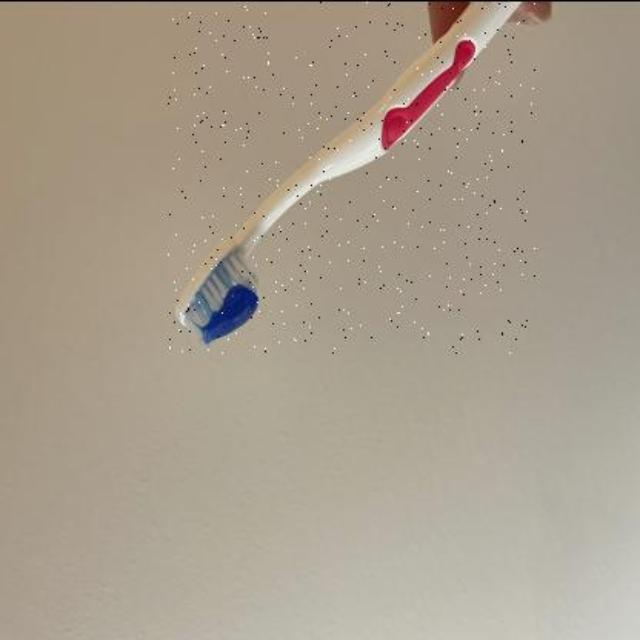toothbrush: (168, 0, 538, 352)
